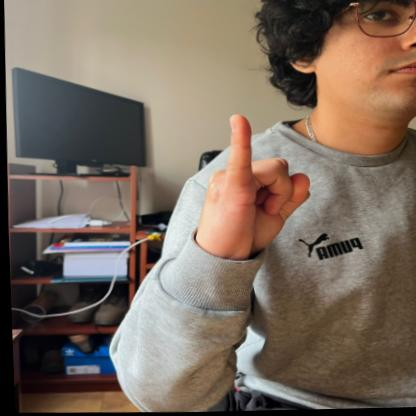I: (180, 106, 314, 258)
